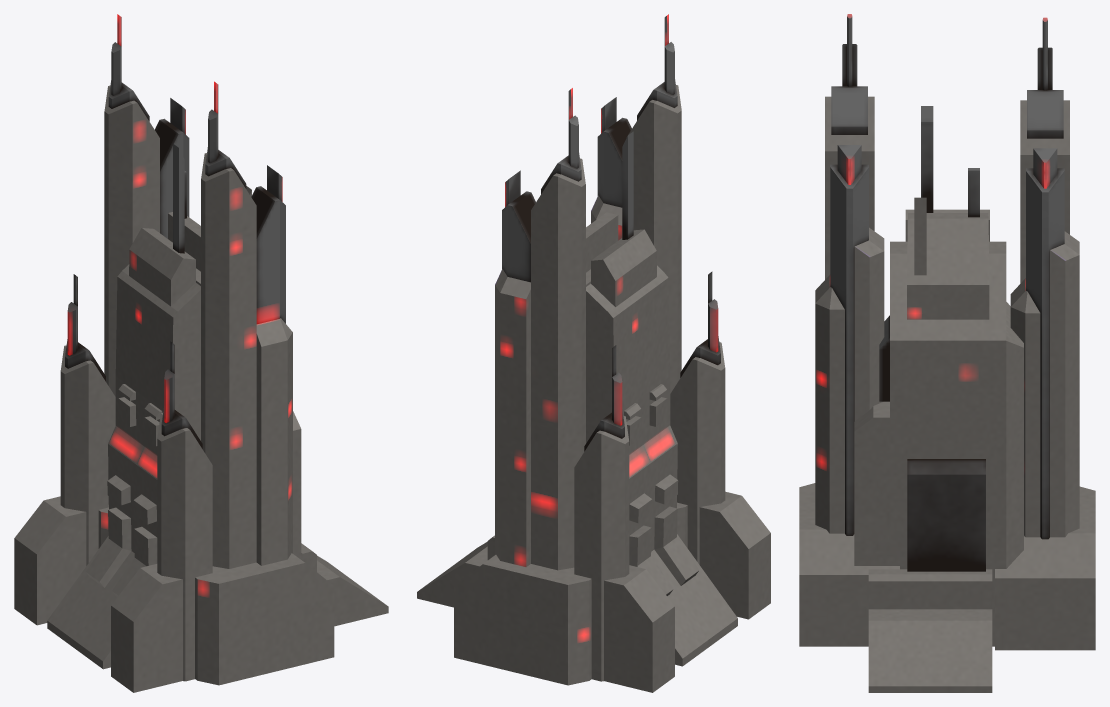
The model's file is SM_BackgroundBuilding_024.fbx.
3 renders of one model, left to right at view 1: azimuth 30°, elevation 25°; view 2: azimuth 150°, elevation 25°; view 3: azimuth 270°, elevation 25°, orthographic. The views are drawn at different scales.
Parts seen in each view (by area): view 1: SM_BackgroundBuilding_024_LOD0; view 2: SM_BackgroundBuilding_024_LOD0; view 3: SM_BackgroundBuilding_024_LOD0.
Boxes of the visible parts, box(x1,y1,x2,y2) form: SM_BackgroundBuilding_024_LOD0: box(14, 14, 388, 692); SM_BackgroundBuilding_024_LOD0: box(417, 14, 770, 692); SM_BackgroundBuilding_024_LOD0: box(799, 14, 1095, 692).
Bounding box in the file's own units: 2211 × 2035 × 4473.
1 material, 1 textured.
